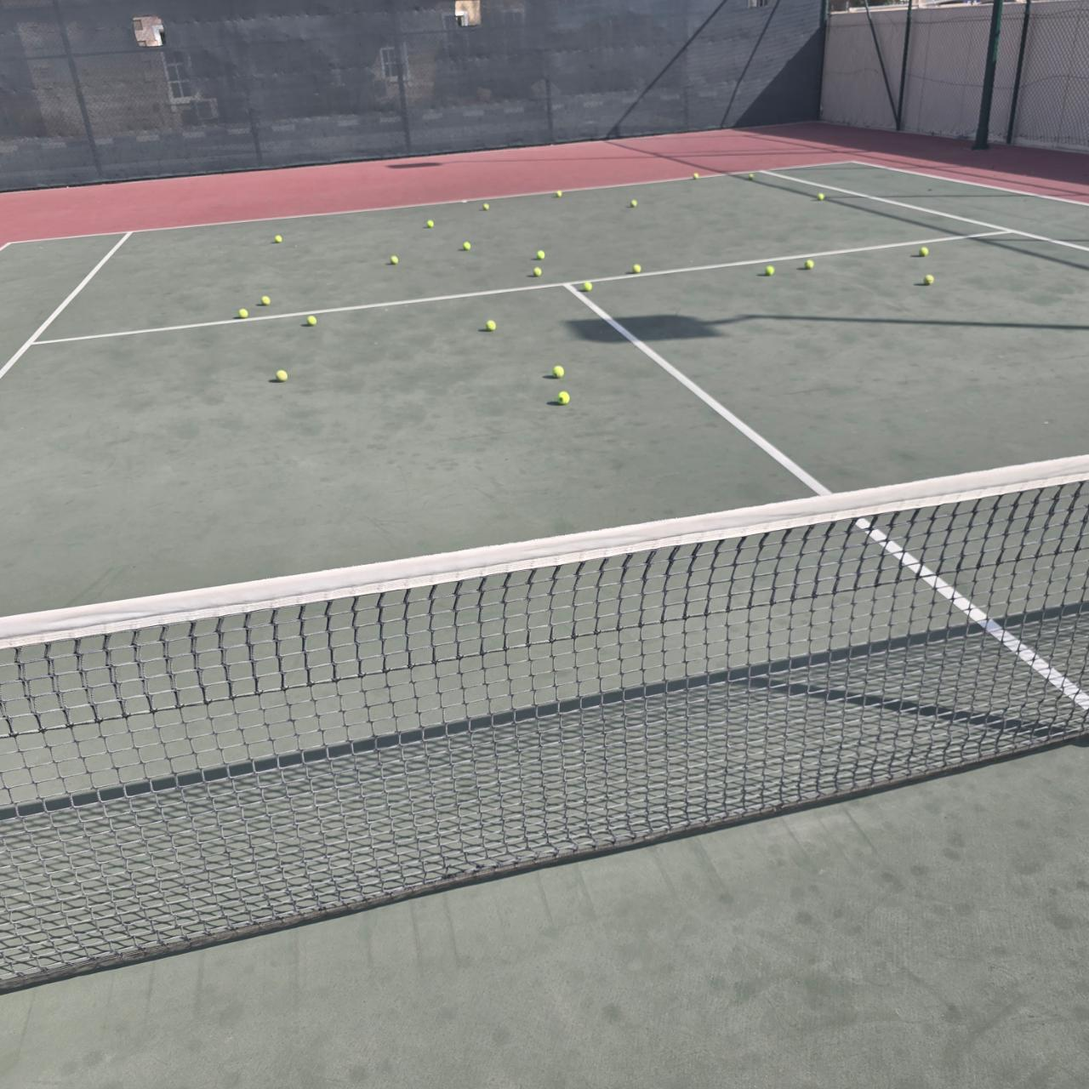tennis-ball: (556, 388, 570, 403), (551, 362, 564, 378), (275, 368, 288, 381), (922, 271, 934, 284), (304, 315, 317, 326), (917, 244, 928, 257), (485, 319, 496, 331), (259, 295, 271, 305), (237, 308, 248, 318), (804, 259, 815, 269), (765, 265, 775, 276), (389, 255, 399, 265), (583, 281, 593, 291), (533, 266, 542, 277), (536, 250, 545, 260), (632, 264, 641, 273), (463, 241, 471, 251), (274, 235, 282, 244), (630, 199, 638, 208), (817, 192, 825, 201), (427, 220, 434, 228), (483, 203, 490, 211), (556, 190, 563, 198), (693, 172, 699, 180), (748, 173, 754, 179)
